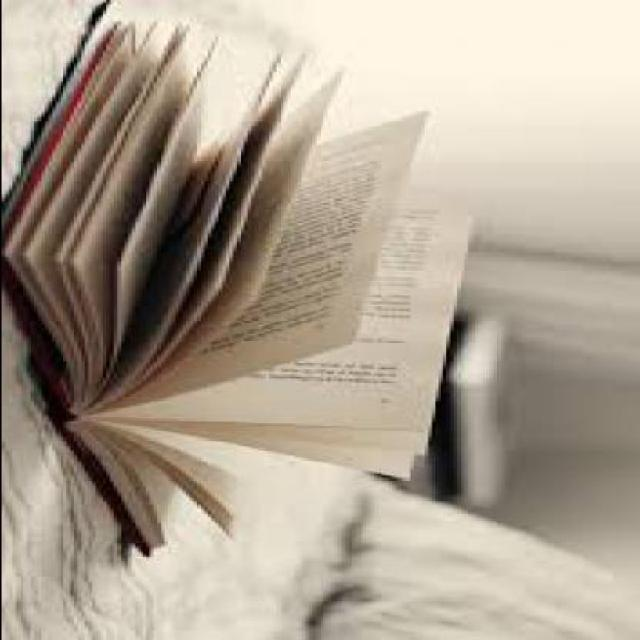PAPER: (3, 0, 474, 555), (84, 170, 481, 452), (83, 108, 434, 412)
